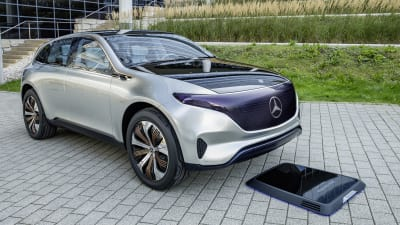pickup: (21, 29, 303, 191)
